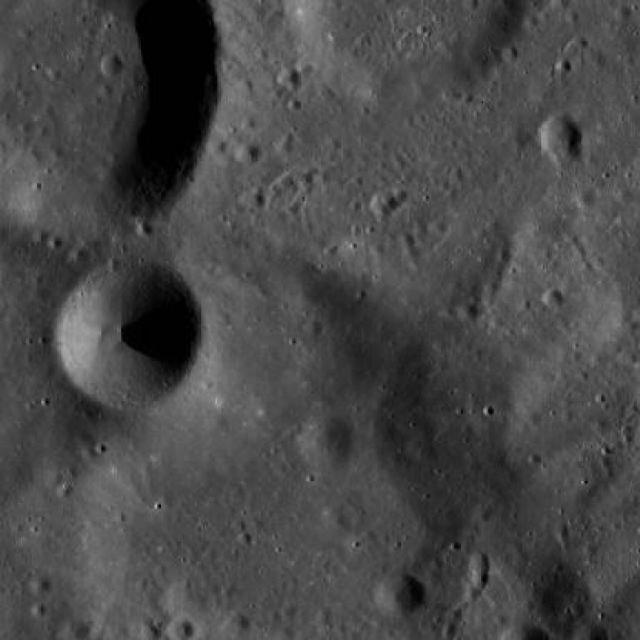crater: (0, 0, 227, 235), (56, 262, 204, 408), (296, 412, 355, 470), (376, 574, 422, 618), (540, 117, 582, 160), (224, 612, 250, 638), (236, 142, 262, 167), (64, 618, 92, 640), (574, 187, 600, 210), (168, 617, 194, 640), (68, 245, 92, 268), (101, 54, 124, 77), (371, 192, 394, 215), (336, 506, 359, 529), (278, 68, 302, 90), (468, 553, 492, 575), (206, 134, 228, 156), (543, 288, 565, 310), (458, 304, 480, 324), (29, 574, 51, 594), (76, 436, 96, 456), (383, 189, 403, 208), (403, 246, 423, 265), (247, 189, 266, 208), (398, 232, 417, 251), (276, 138, 295, 156), (428, 218, 446, 236), (141, 624, 161, 640), (297, 59, 314, 76), (297, 170, 314, 187), (278, 172, 296, 188), (242, 115, 258, 132), (306, 320, 322, 337), (470, 572, 487, 588), (556, 56, 572, 72), (615, 5, 631, 21), (236, 532, 252, 548), (30, 602, 46, 618), (464, 586, 479, 602), (441, 623, 456, 639), (58, 484, 74, 499), (232, 518, 246, 534), (552, 0, 570, 11), (462, 0, 478, 11), (0, 0, 1, 2), (0, 1, 2, 2)
